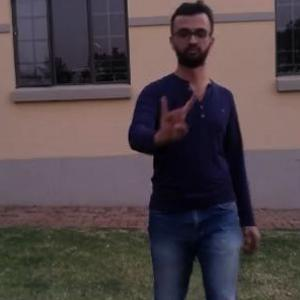takeoff-hand: (154, 87, 197, 142)
